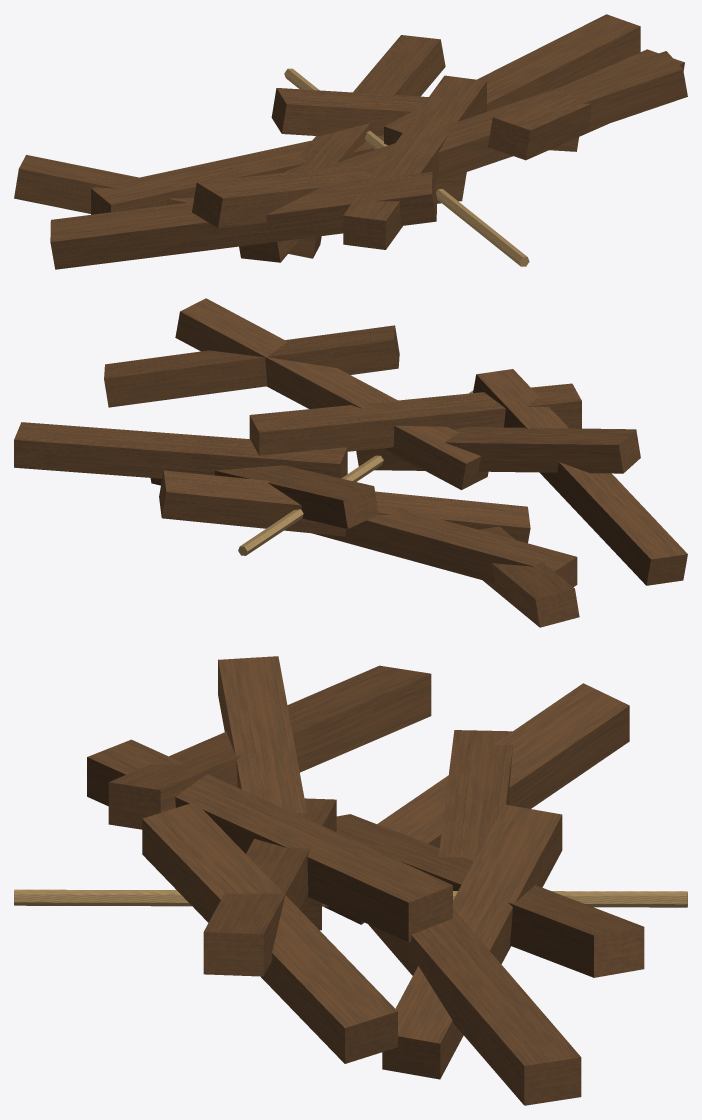
Rendered from en-023_storm_damage_debris_set__broken_shelter_parts.obj.
The picture shows the model from 3 angles, top to bottom: view 1: azimuth 30°, elevation 25°; view 2: azimuth 150°, elevation 25°; view 3: azimuth 270°, elevation 25°; orthographic projection. The views are drawn at different scales.
Visible parts, largest first — view 1: en-023_storm_damage_debris_set__broken_shelter_parts; view 2: en-023_storm_damage_debris_set__broken_shelter_parts; view 3: en-023_storm_damage_debris_set__broken_shelter_parts.
Boxes of the visible parts, x1,y1,x2,y2 form: en-023_storm_damage_debris_set__broken_shelter_parts: (14, 14, 687, 269); en-023_storm_damage_debris_set__broken_shelter_parts: (14, 298, 687, 627); en-023_storm_damage_debris_set__broken_shelter_parts: (14, 656, 687, 1105).
Size of the model in its own units: 1.5 by 0.3231 by 1.
Materials: 2 (2 with a texture image).
